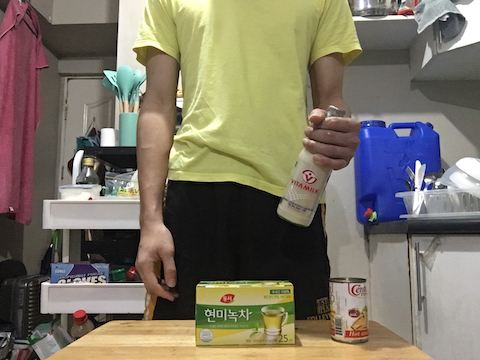bottle: (275, 101, 347, 229)
box: (193, 276, 298, 349)
can: (327, 275, 371, 345)
grab: (300, 114, 362, 170)
